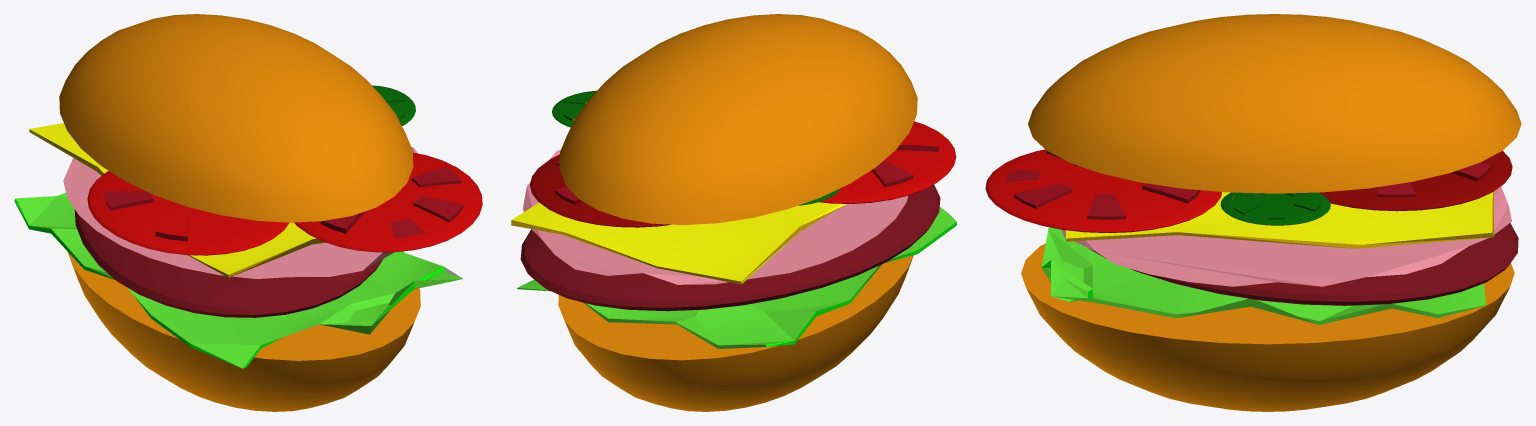
The model's file is blender.glb.
The picture shows the model from 3 angles, left to right: view 1: azimuth 30°, elevation 25°; view 2: azimuth 150°, elevation 25°; view 3: azimuth 270°, elevation 25°; orthographic projection. The views are drawn at different scales.
Parts seen in each view (by area): view 1: skp28D7; view 2: skp28D7; view 3: skp28D7.
Part boxes in pixels (<box>): skp28D7: <box>14,14,482,411</box>; skp28D7: <box>511,14,956,411</box>; skp28D7: <box>985,14,1521,411</box>.
Bounding box in the file's own units: 2.17 × 2.01 × 2.72.
